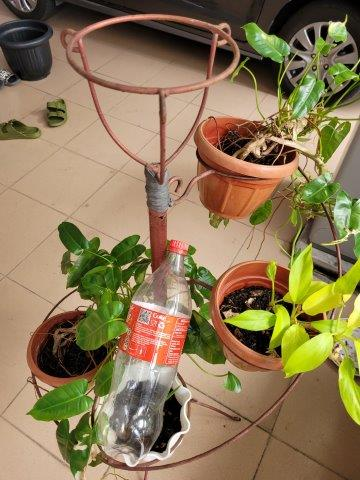botolplastik: (102, 242, 192, 443)
